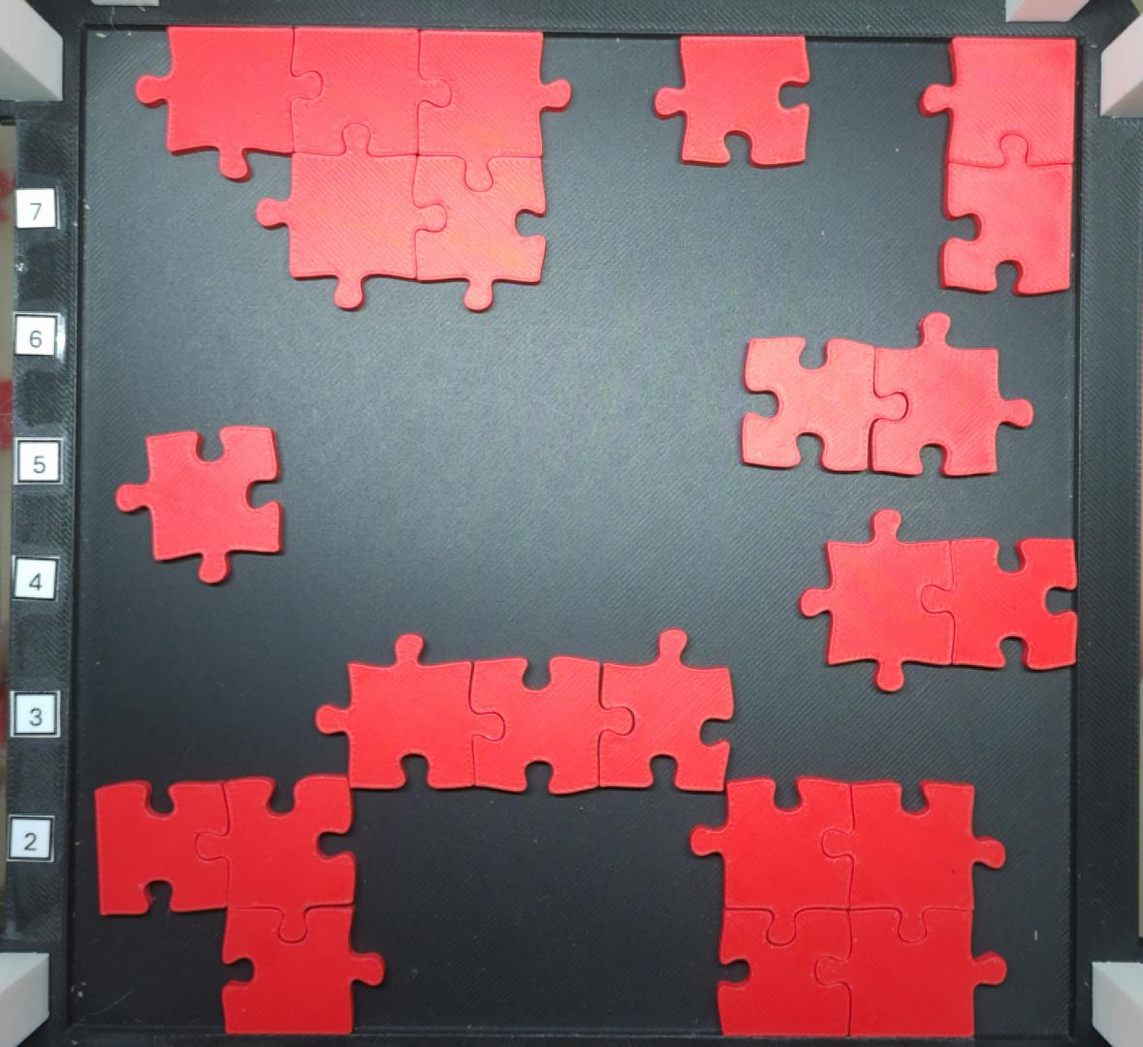p_1: (117, 423, 288, 586), (655, 34, 811, 166)
p_2: (793, 510, 1082, 698), (740, 306, 1036, 477), (920, 38, 1075, 295)
p_3: (98, 772, 386, 1034), (316, 629, 740, 797)
p_4: (692, 775, 1007, 1038)
p_m: (138, 28, 574, 315)
